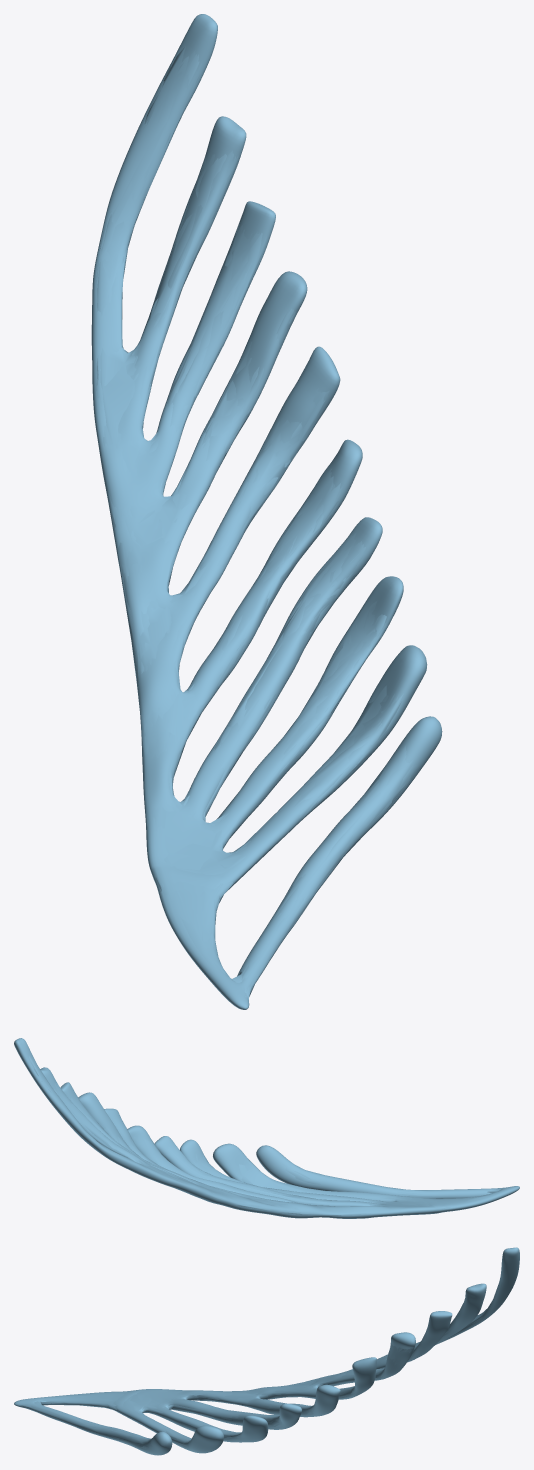
The model's file is Costal Cartilage Left.fbx.
The picture shows the model from 3 angles, top to bottom: view 1: azimuth 30°, elevation 25°; view 2: azimuth 150°, elevation 25°; view 3: azimuth 270°, elevation 25°; orthographic projection. The views are drawn at different scales.
Visible parts, largest first — view 1: Costal Cartilage Left high, Costal Cartilage Left, Costal Cartilage Left low; view 2: Costal Cartilage Left high, Costal Cartilage Left, Costal Cartilage Left low; view 3: Costal Cartilage Left high, Costal Cartilage Left, Costal Cartilage Left low.
Boxes of the visible parts, box(x1,y1,x2,y2) form: Costal Cartilage Left high: box(91, 14, 442, 1009); Costal Cartilage Left: box(96, 48, 421, 997); Costal Cartilage Left low: box(97, 46, 413, 1000); Costal Cartilage Left high: box(14, 1038, 519, 1218); Costal Cartilage Left: box(27, 1053, 501, 1217); Costal Cartilage Left low: box(29, 1055, 501, 1217); Costal Cartilage Left high: box(14, 1247, 519, 1455); Costal Cartilage Left: box(22, 1277, 502, 1448); Costal Cartilage Left low: box(21, 1278, 500, 1447).
Bounding box in the file's own units: 27.13 × 29.7 × 50.34.
